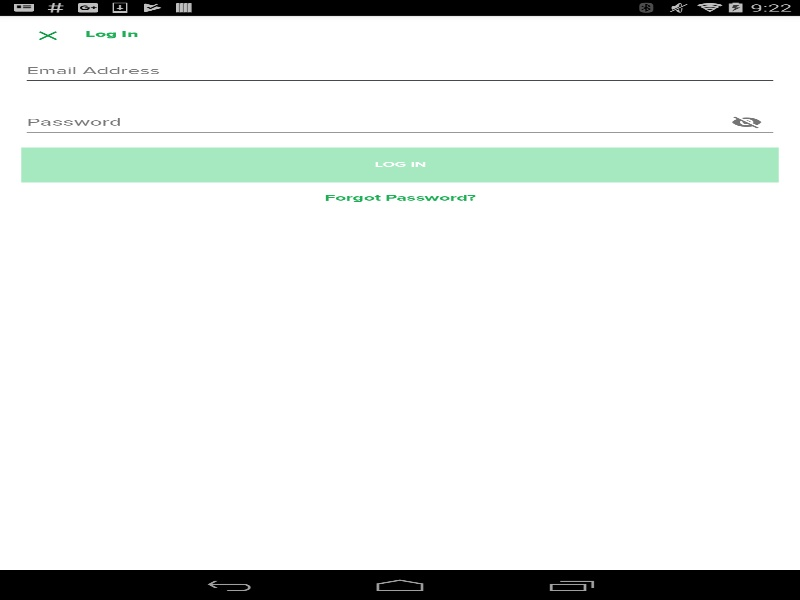Button: (21, 147, 778, 182), (10, 15, 85, 55), (714, 107, 778, 137)
Input: (21, 107, 778, 137), (21, 57, 778, 85)
